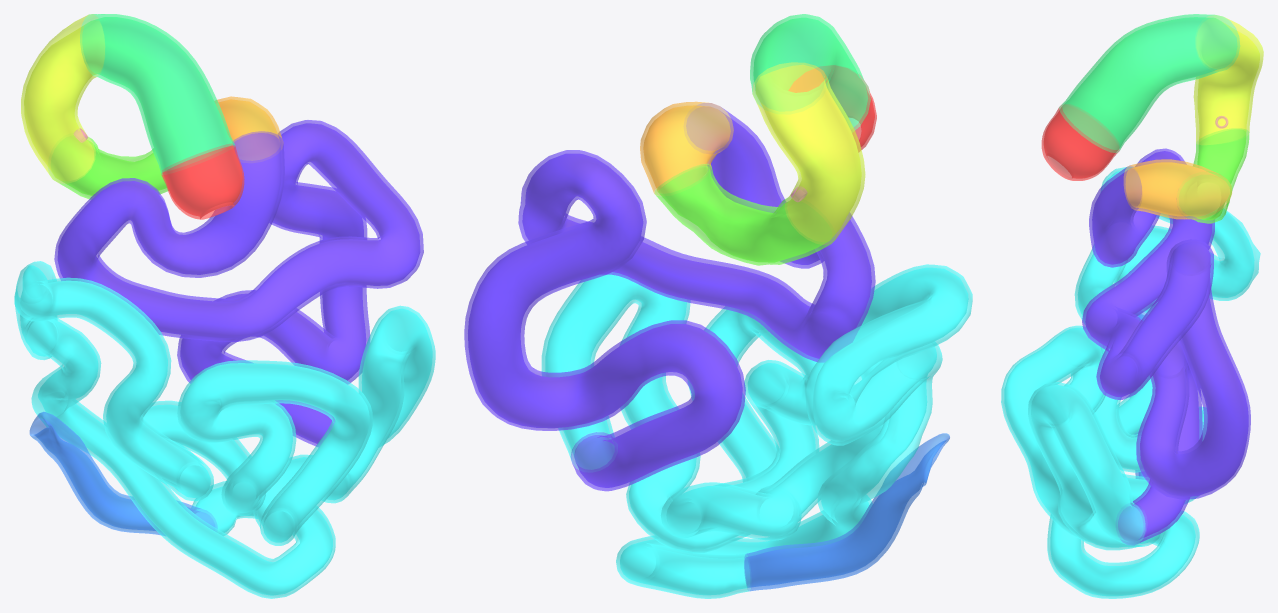
File: duenndarm-female.glb
3 renders of one model, left to right at view 1: azimuth 30°, elevation 25°; view 2: azimuth 150°, elevation 25°; view 3: azimuth 270°, elevation 25°, orthographic. The views are drawn at different scales.
Visible parts, largest first — view 1: 0:8:VH_F_ileum, 0:9:VH_F_jejenum, 0:4:VH_F_duodenum_superior, 0:1:VH_F_duodenum_descending, 0:7:VH_F_ileum_terminal, 0:3:VH_F_duodenal_ampulla, 0:2:VH_F_duodenum_horizontal, 0:0:VH_F_duodenum_ascending; view 2: 0:8:VH_F_ileum, 0:9:VH_F_jejenum, 0:1:VH_F_duodenum_descending, 0:2:VH_F_duodenum_horizontal, 0:7:VH_F_ileum_terminal, 0:4:VH_F_duodenum_superior, 0:0:VH_F_duodenum_ascending, 0:3:VH_F_duodenal_ampulla; view 3: 0:9:VH_F_jejenum, 0:8:VH_F_ileum, 0:4:VH_F_duodenum_superior, 0:1:VH_F_duodenum_descending, 0:0:VH_F_duodenum_ascending, 0:2:VH_F_duodenum_horizontal, 0:3:VH_F_duodenal_ampulla.
Part boxes in pixels (<box>): 0:8:VH_F_ileum: <box>14,261,435,598</box>; 0:9:VH_F_jejenum: <box>54,120,423,446</box>; 0:4:VH_F_duodenum_superior: <box>80,14,234,174</box>; 0:1:VH_F_duodenum_descending: <box>21,14,104,183</box>; 0:7:VH_F_ileum_terminal: <box>29,412,217,535</box>; 0:3:VH_F_duodenal_ampulla: <box>161,144,244,219</box>; 0:2:VH_F_duodenum_horizontal: <box>48,135,168,199</box>; 0:0:VH_F_duodenum_ascending: <box>214,96,283,160</box>; 0:8:VH_F_ileum: <box>541,264,972,598</box>; 0:9:VH_F_jejenum: <box>464,103,875,491</box>; 0:1:VH_F_duodenum_descending: <box>752,62,865,244</box>; 0:2:VH_F_duodenum_horizontal: <box>654,164,835,265</box>; 0:7:VH_F_ileum_terminal: <box>744,433,949,591</box>; 0:4:VH_F_duodenum_superior: <box>750,14,870,129</box>; 0:0:VH_F_duodenum_ascending: <box>640,101,733,195</box>; 0:3:VH_F_duodenal_ampulla: <box>789,65,876,151</box>; 0:9:VH_F_jejenum: <box>1082,148,1250,545</box>; 0:8:VH_F_ileum: <box>1001,167,1260,598</box>; 0:4:VH_F_duodenum_superior: <box>1059,14,1239,152</box>; 0:1:VH_F_duodenum_descending: <box>1193,15,1263,144</box>; 0:0:VH_F_duodenum_ascending: <box>1124,159,1231,219</box>; 0:2:VH_F_duodenum_horizontal: <box>1179,128,1249,223</box>; 0:3:VH_F_duodenal_ampulla: <box>1041,104,1119,180</box>.
Bounding box in the file's own units: 0.1616 × 0.2172 × 0.1.
